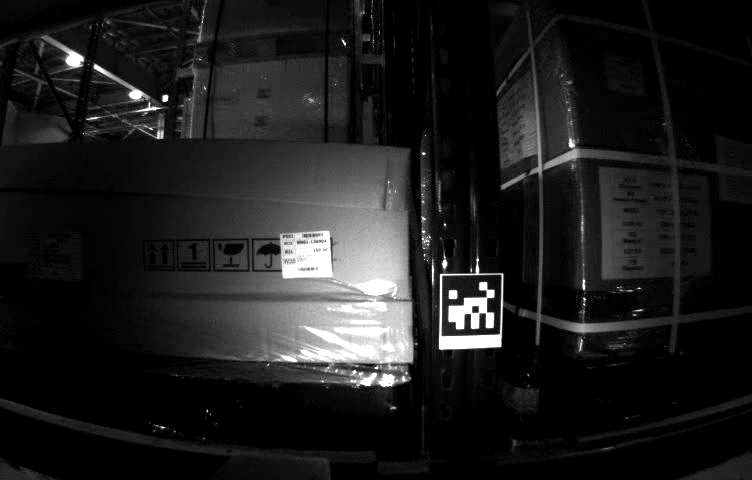True Barcode: (276, 230, 334, 278), (601, 55, 646, 97)
